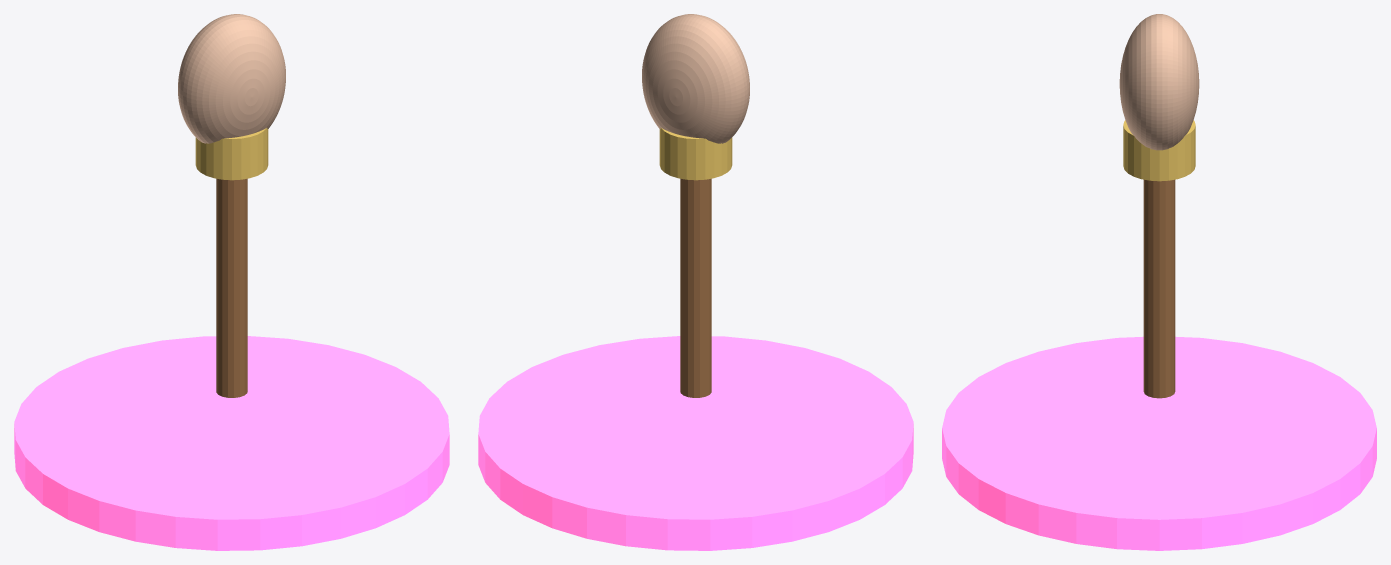
The model's file is beauty_makeup_brush.glb.
3 renders of one model, left to right at view 1: azimuth 30°, elevation 25°; view 2: azimuth 150°, elevation 25°; view 3: azimuth 270°, elevation 25°, orthographic.
Visible parts, largest first — view 1: 03_02_Popular_Beauty_Makeup_Brush_ROOT_base, 03_02_Popular_Beauty_Makeup_Brush_part_03, 03_02_Popular_Beauty_Makeup_Brush_part_01, 03_02_Popular_Beauty_Makeup_Brush_part_02; view 2: 03_02_Popular_Beauty_Makeup_Brush_ROOT_base, 03_02_Popular_Beauty_Makeup_Brush_part_03, 03_02_Popular_Beauty_Makeup_Brush_part_01, 03_02_Popular_Beauty_Makeup_Brush_part_02; view 3: 03_02_Popular_Beauty_Makeup_Brush_ROOT_base, 03_02_Popular_Beauty_Makeup_Brush_part_03, 03_02_Popular_Beauty_Makeup_Brush_part_01, 03_02_Popular_Beauty_Makeup_Brush_part_02.
Part boxes in pixels (x1,y1,x2,y2): 03_02_Popular_Beauty_Makeup_Brush_ROOT_base: (14, 336, 449, 550); 03_02_Popular_Beauty_Makeup_Brush_part_03: (178, 14, 285, 143); 03_02_Popular_Beauty_Makeup_Brush_part_01: (216, 178, 247, 397); 03_02_Popular_Beauty_Makeup_Brush_part_02: (195, 128, 268, 180); 03_02_Popular_Beauty_Makeup_Brush_ROOT_base: (478, 336, 913, 550); 03_02_Popular_Beauty_Makeup_Brush_part_03: (642, 14, 749, 143); 03_02_Popular_Beauty_Makeup_Brush_part_01: (680, 178, 711, 397); 03_02_Popular_Beauty_Makeup_Brush_part_02: (659, 128, 732, 180); 03_02_Popular_Beauty_Makeup_Brush_ROOT_base: (942, 336, 1376, 550); 03_02_Popular_Beauty_Makeup_Brush_part_03: (1119, 14, 1199, 150); 03_02_Popular_Beauty_Makeup_Brush_part_01: (1143, 179, 1175, 398); 03_02_Popular_Beauty_Makeup_Brush_part_02: (1123, 120, 1195, 181).
Size of the model in its own units: 0.76 by 0.85 by 0.76.
